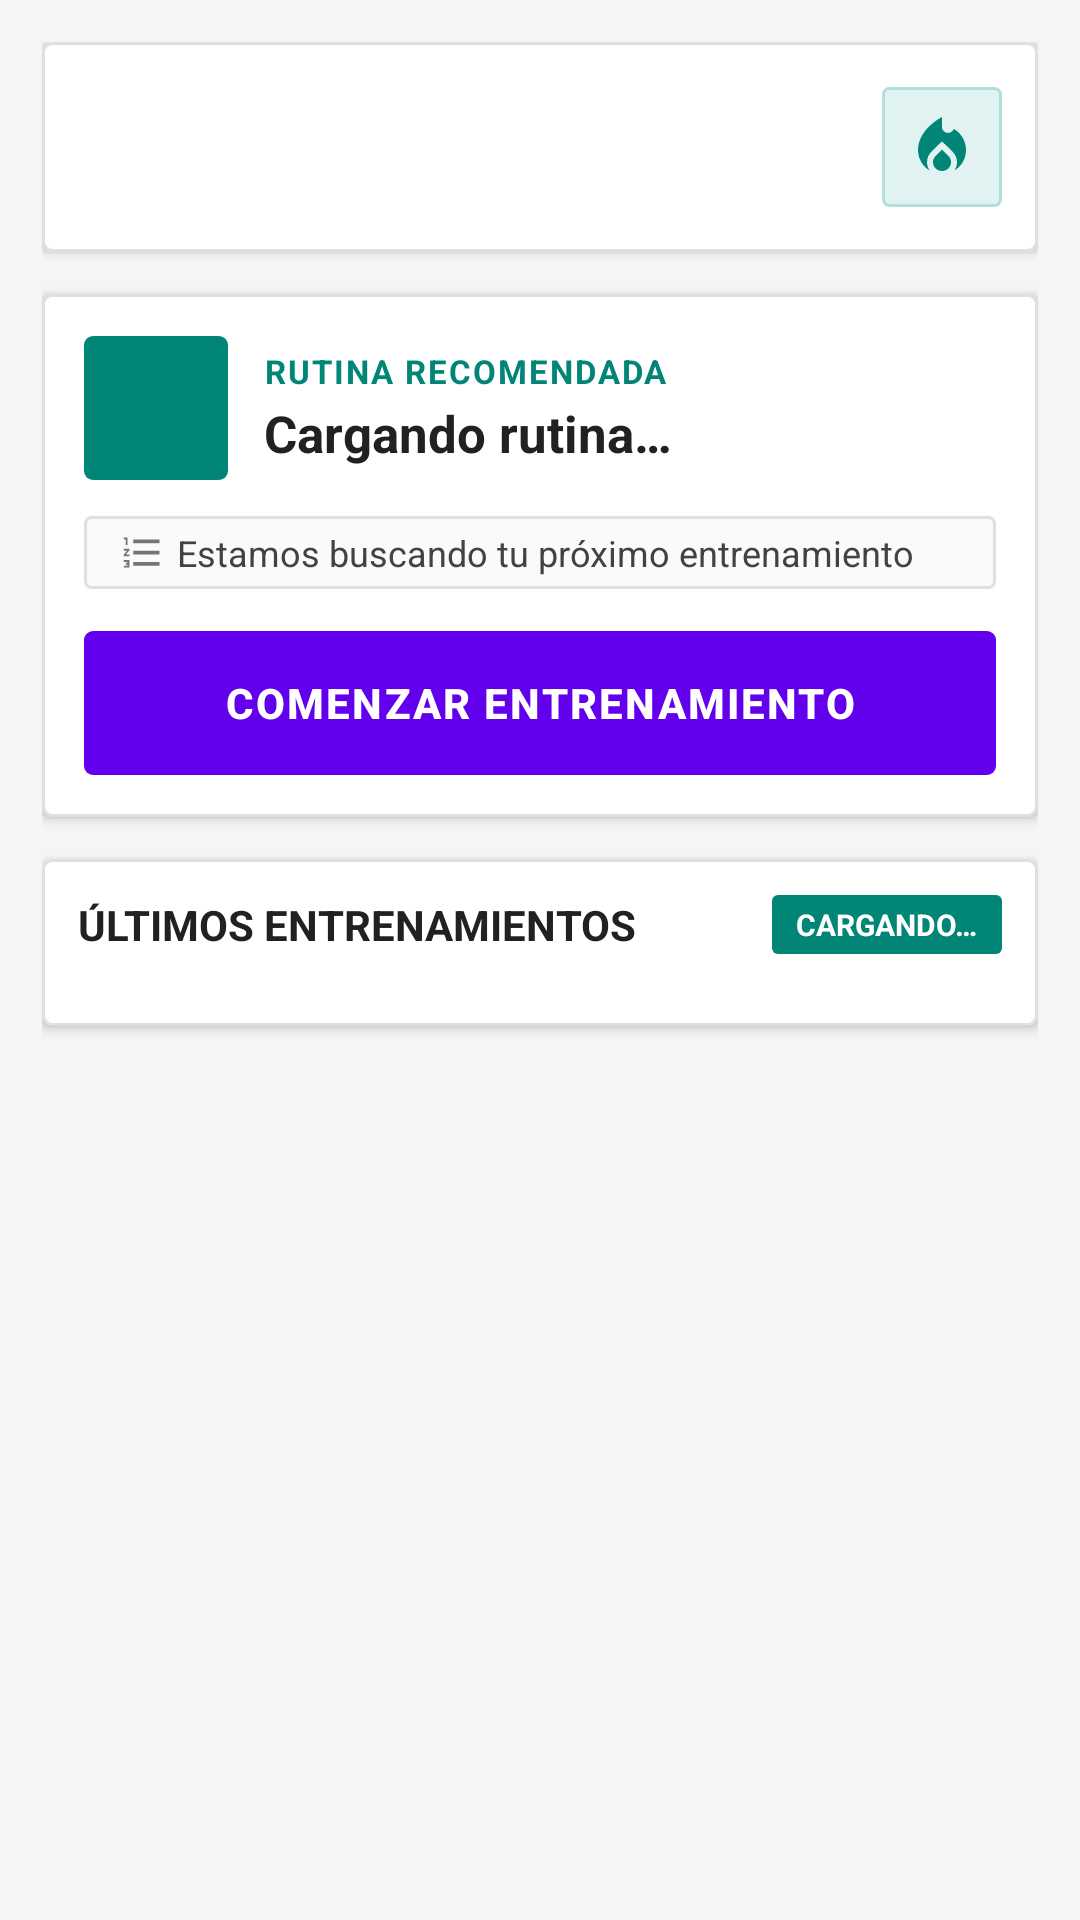

Icon bounding boxes for this 1080*1920 phone screenshot, format (x1, y1, x2, y2):
format list numbered: (123, 537, 160, 568)
